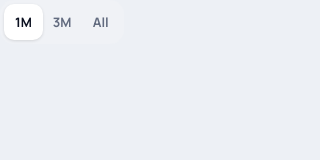
Test: Segmented › clicking selects
Click the radio button labelled "All" at (101, 22), box [81, 4, 120, 40]
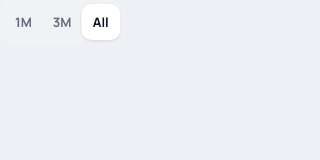
Expected: the radio button labelled "All" is checked, [81, 4, 120, 40]
